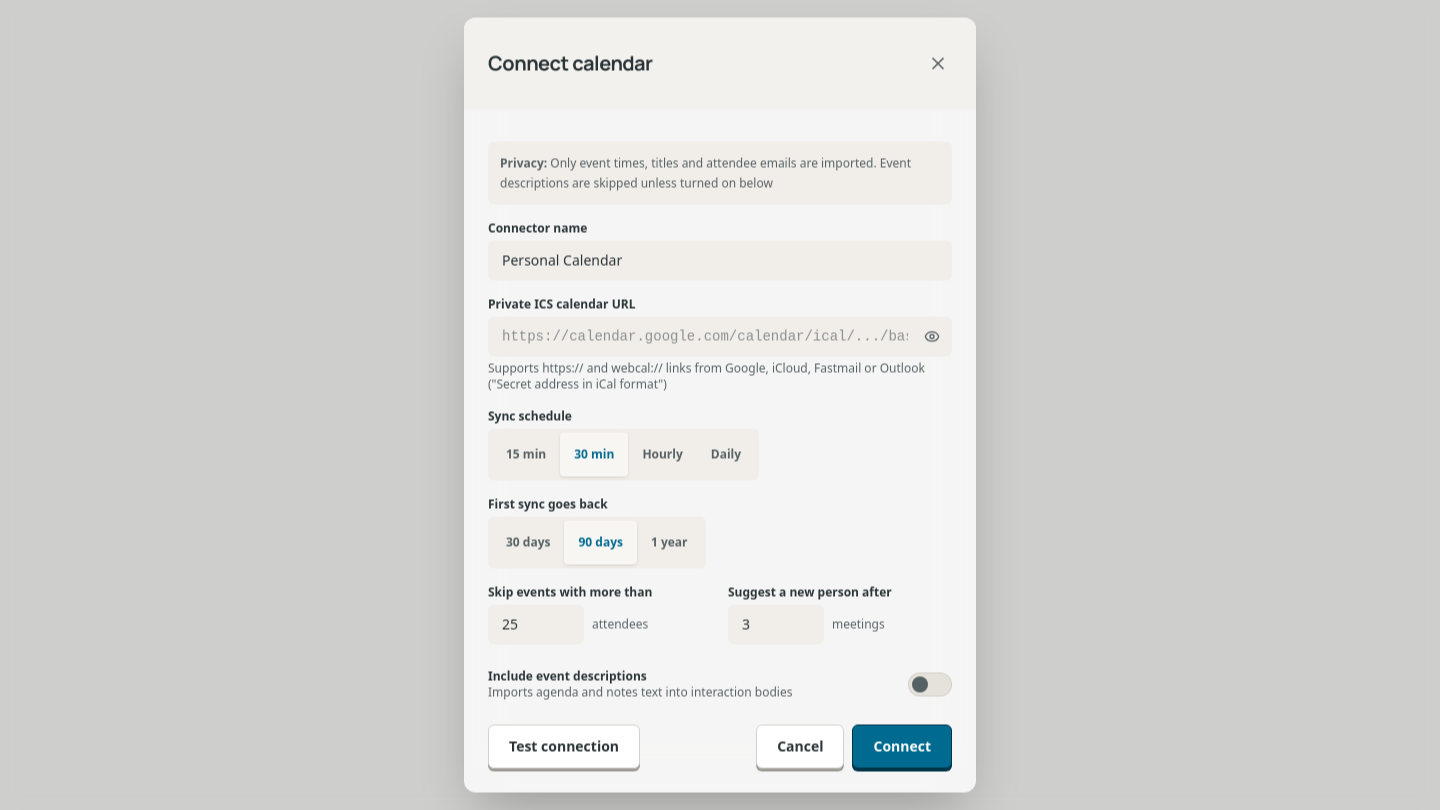
Test: Frontend Connectors Components › CalendarFormModal › displays error feedback when testing connection fails
The width and height of the screenshot is (1440, 810).
Type "https://example.com/bad.ics" into the password field with placeholder "https://calendar.google.com/calendar/ical/.../basic.ics" at (720, 336), box [488,316,952,356]
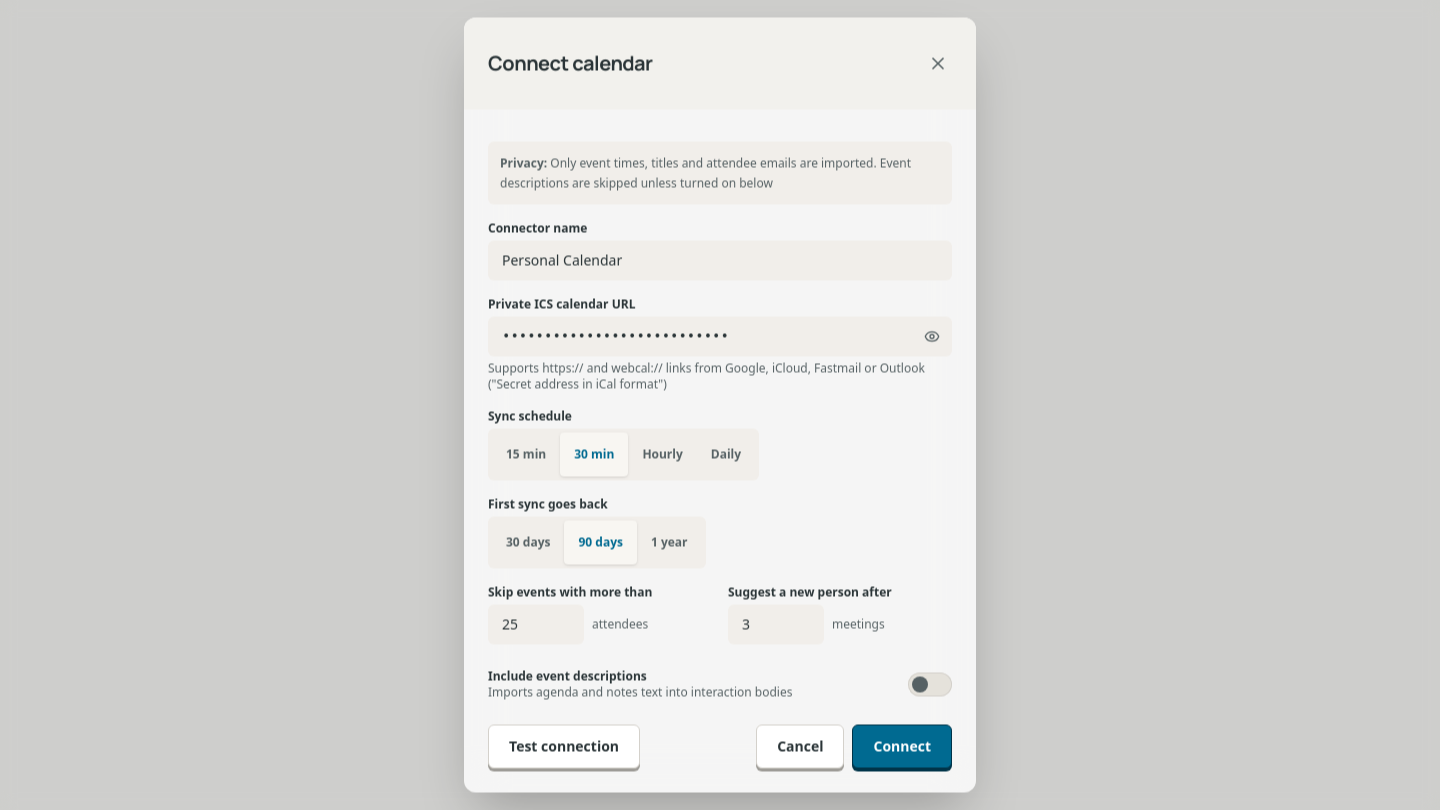
Click the button "Test connection" at (564, 746), box [488,724,640,768]
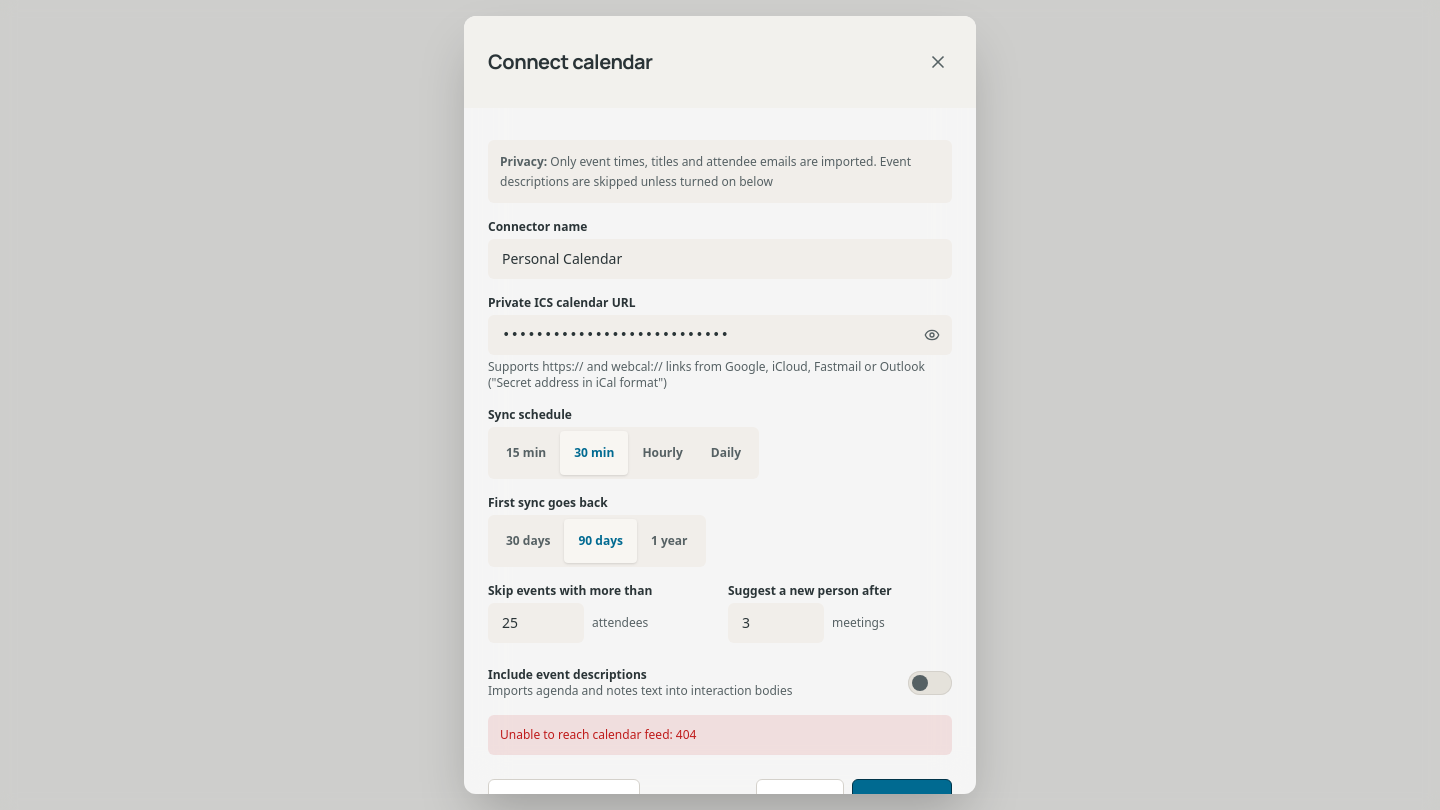
Result: the text "Unable to reach calendar feed: 404" is shown at [488,715,952,755]
